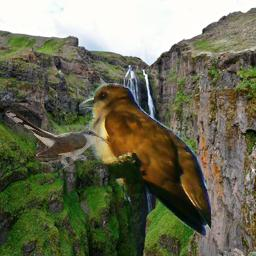Cuckoo: (79, 83, 211, 239), (4, 106, 107, 172)
